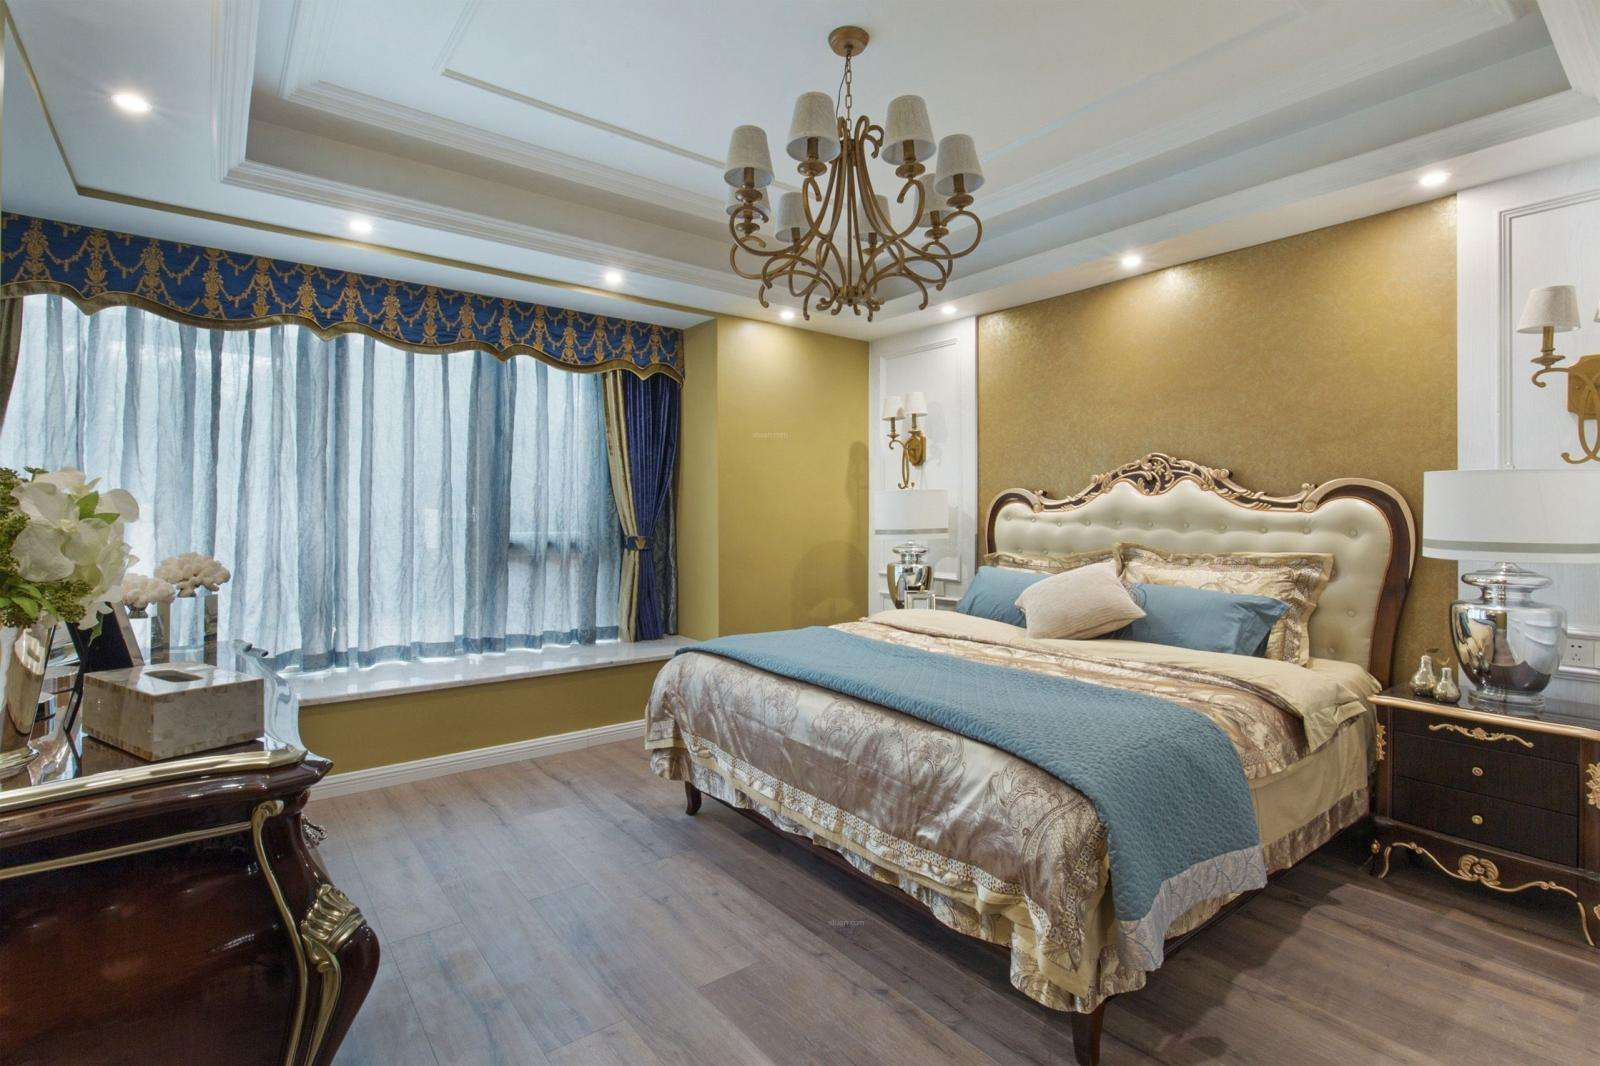床: (633, 601, 1369, 986)
枕头: (952, 537, 1323, 650)
灯: (702, 29, 987, 322), (1511, 280, 1580, 375), (878, 384, 936, 490), (99, 83, 164, 128), (1102, 245, 1163, 286), (1417, 162, 1458, 203), (340, 208, 379, 246), (596, 266, 638, 297)
